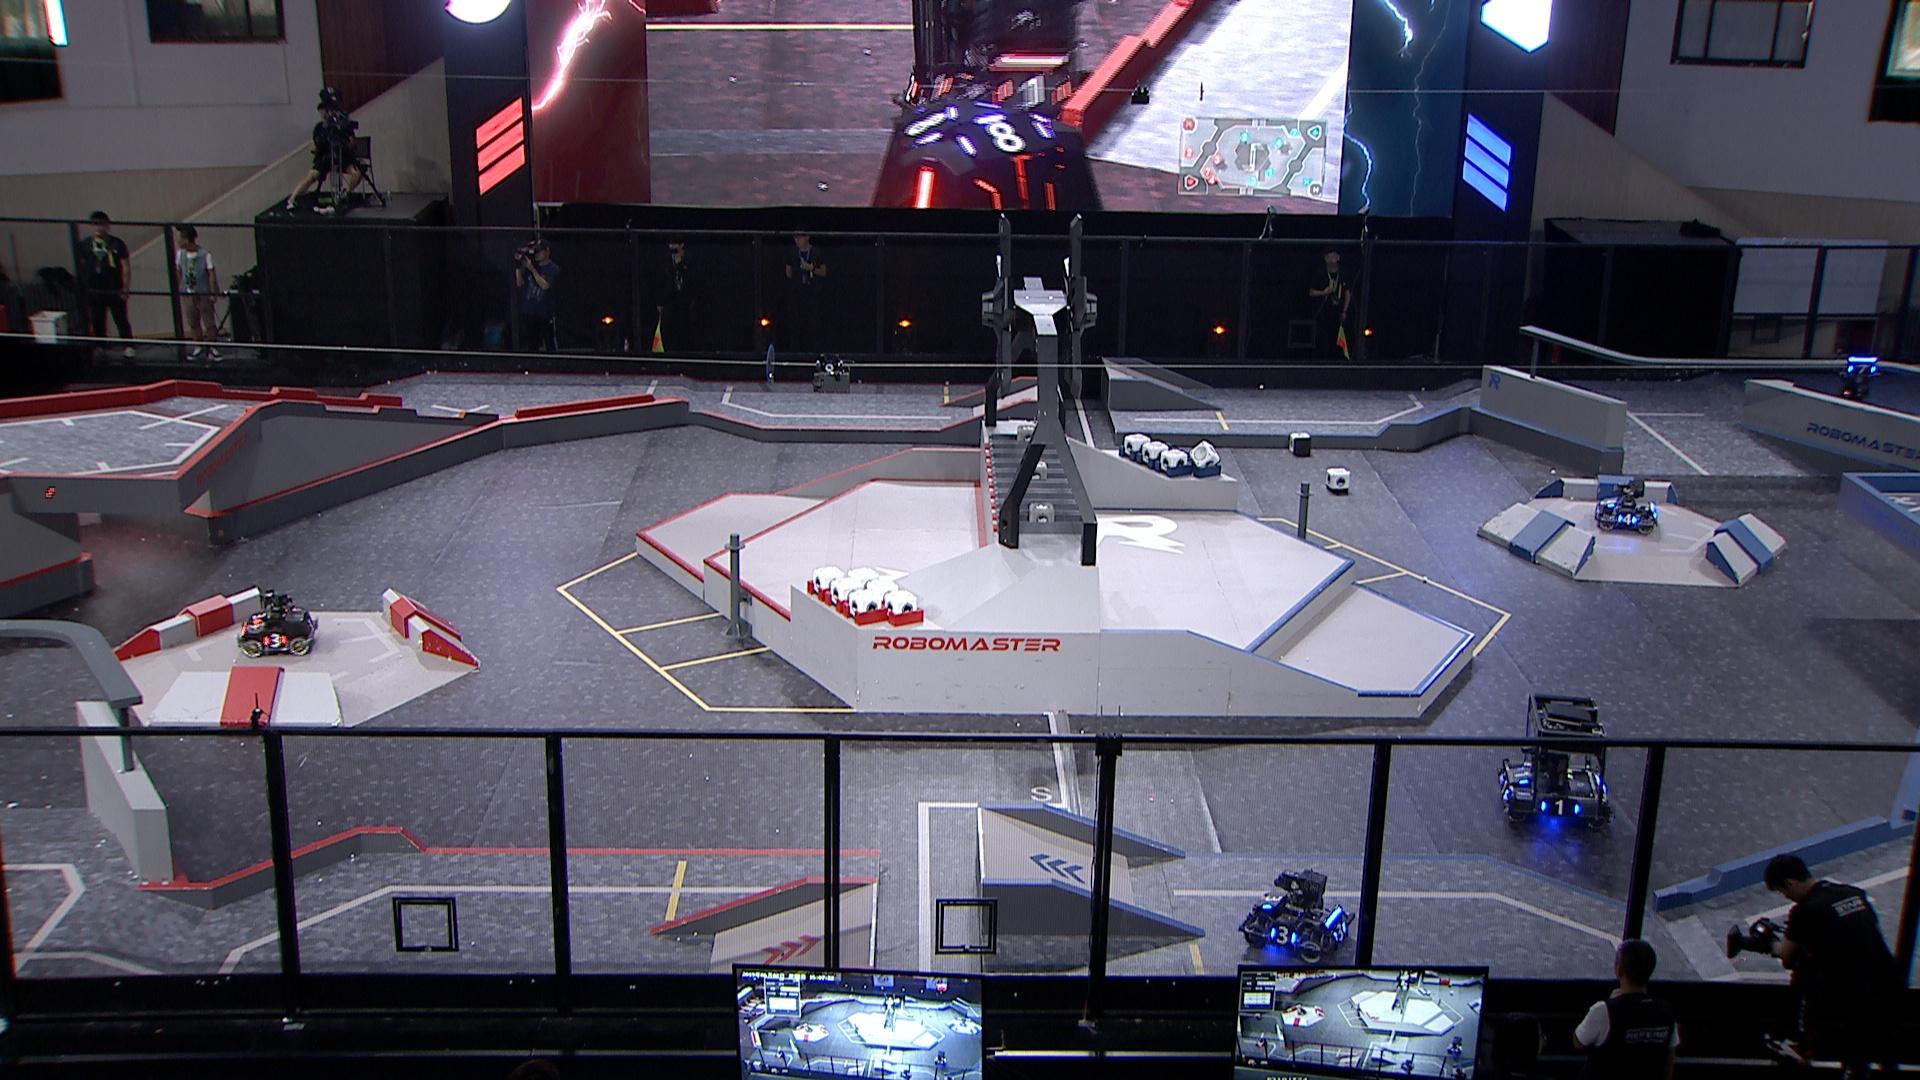armor: (1538, 798, 1580, 818), (1267, 926, 1299, 945), (1259, 889, 1283, 913), (1845, 363, 1876, 377), (1510, 765, 1528, 787), (1332, 920, 1349, 944), (262, 633, 289, 647), (1615, 513, 1640, 527), (1495, 774, 1509, 800), (249, 609, 266, 626)
car: (1491, 694, 1615, 836), (1236, 868, 1357, 969), (237, 589, 319, 657), (1593, 480, 1659, 537)
ignore: (869, 98, 1102, 211), (895, 0, 1095, 120)
watcher: (1832, 348, 1880, 400)
